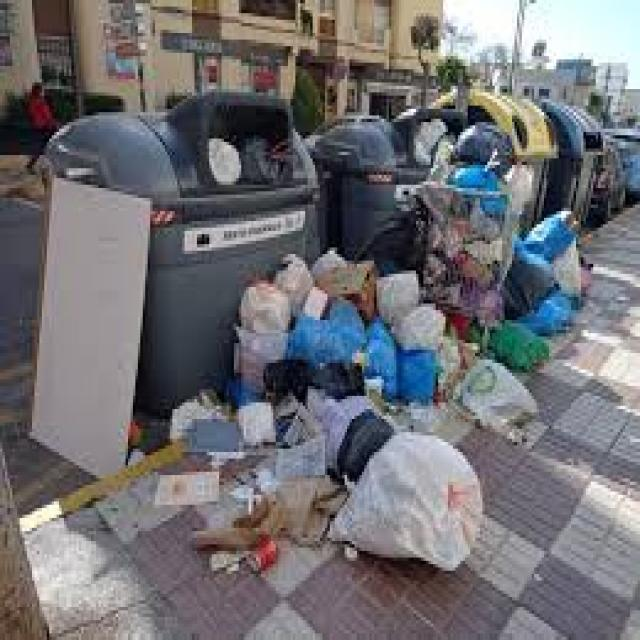high trash: (155, 124, 590, 572)
